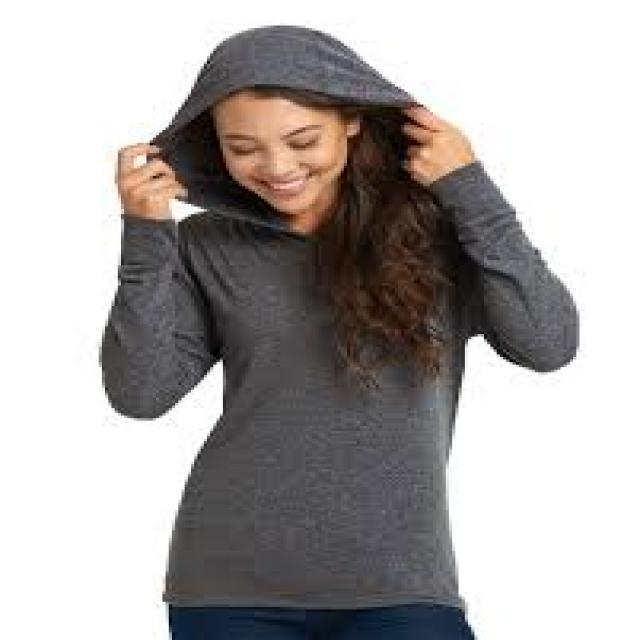plain: (71, 209, 593, 601)
